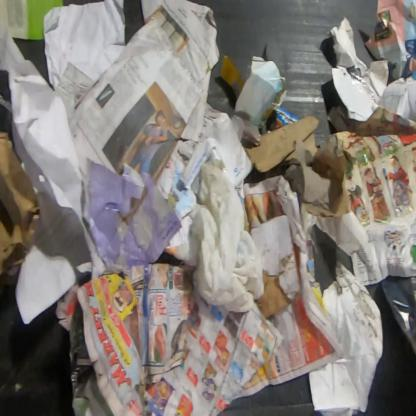cardboard: (244, 115, 354, 218), (0, 130, 43, 281), (250, 214, 302, 320)
